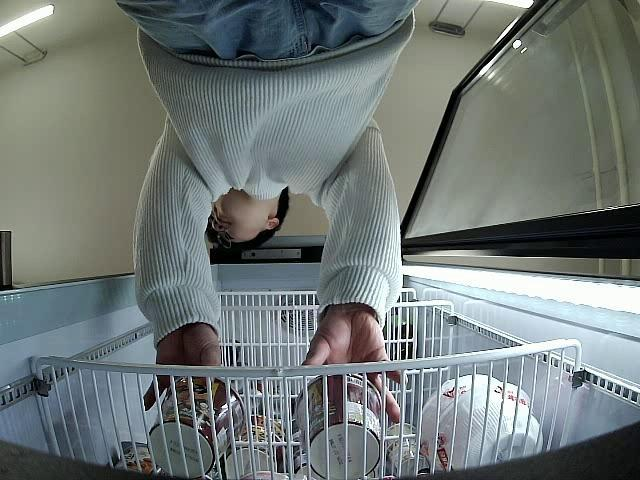06_nuguri_S: (149, 376, 245, 476), (293, 372, 382, 478)
